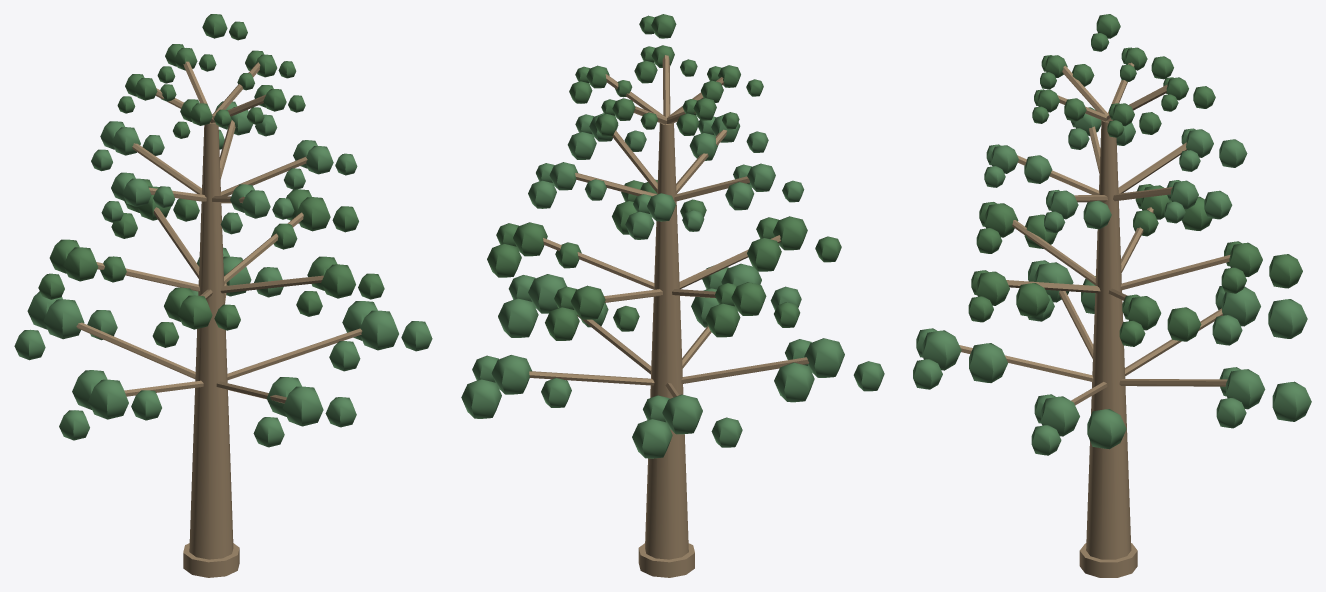
The model's file is Tree_Pine.fbx.
The picture shows the model from 3 angles, left to right: view 1: azimuth 30°, elevation 25°; view 2: azimuth 150°, elevation 25°; view 3: azimuth 270°, elevation 25°; orthographic projection.
Visible parts, largest first — view 1: LOD0; view 2: LOD0; view 3: LOD0.
Boxes of the visible parts, x1,y1,x2,y2 form: LOD0: (14,14,432,577); LOD0: (461,14,884,577); LOD0: (913,14,1311,577).
Size of what is drawn, in the model's own units: 297 by 421 by 275.
